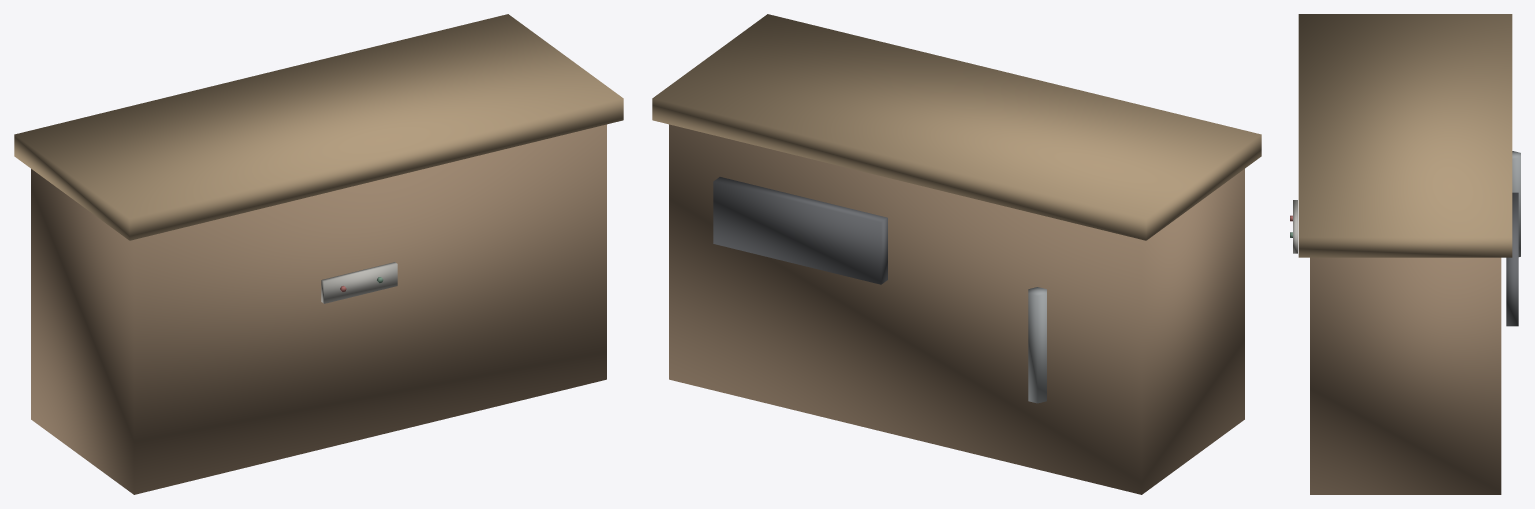
The model's file is funeral_reception_counter__service.glb.
3 views of the same model, side by side, from view 1: azimuth 30°, elevation 25°; view 2: azimuth 150°, elevation 25°; view 3: azimuth 270°, elevation 25° (orthographic). The views are drawn at different scales.
Visible parts, largest first — view 1: world; view 2: world; view 3: world.
Boxes of the visible parts, bbox=[...] form: world: bbox=[14, 14, 623, 494]; world: bbox=[652, 14, 1261, 494]; world: bbox=[1290, 14, 1520, 494].
Size of the model in its own units: 1.88 by 1.03 by 0.8213.
